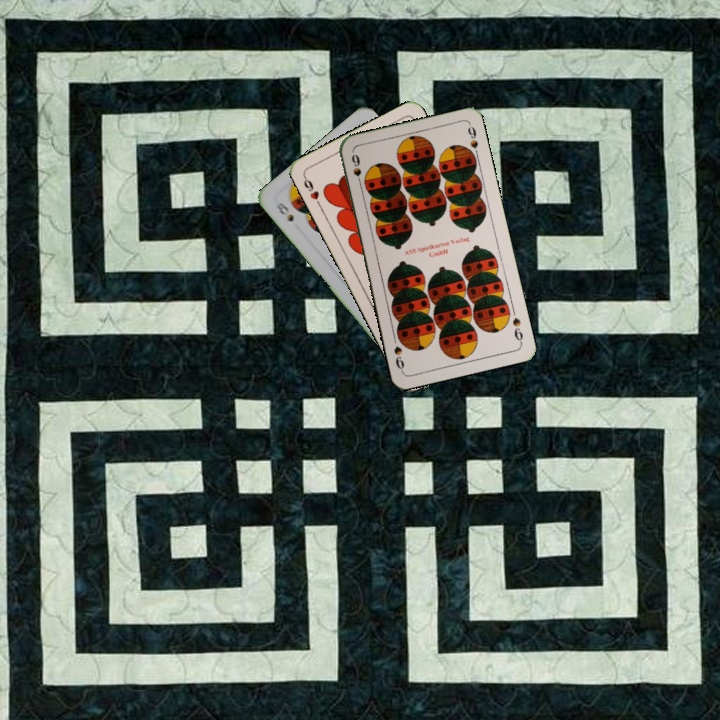H9: (300, 172, 324, 210)
S8: (271, 198, 296, 225)
S9: (347, 150, 365, 190), (508, 313, 525, 346)
